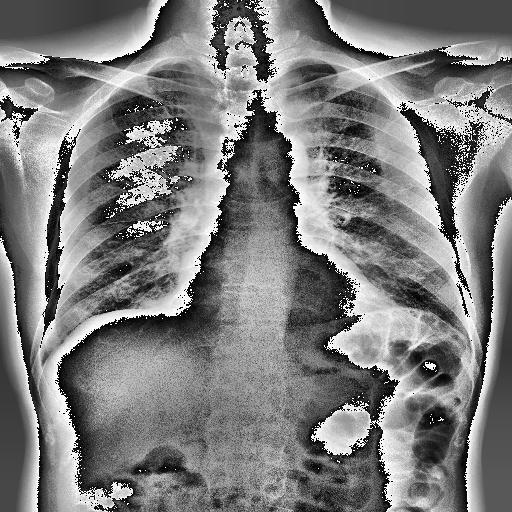0- Aortic enlargement: (202, 133, 308, 211)
11- Pleural thickening: (134, 55, 208, 73), (148, 55, 188, 71)
